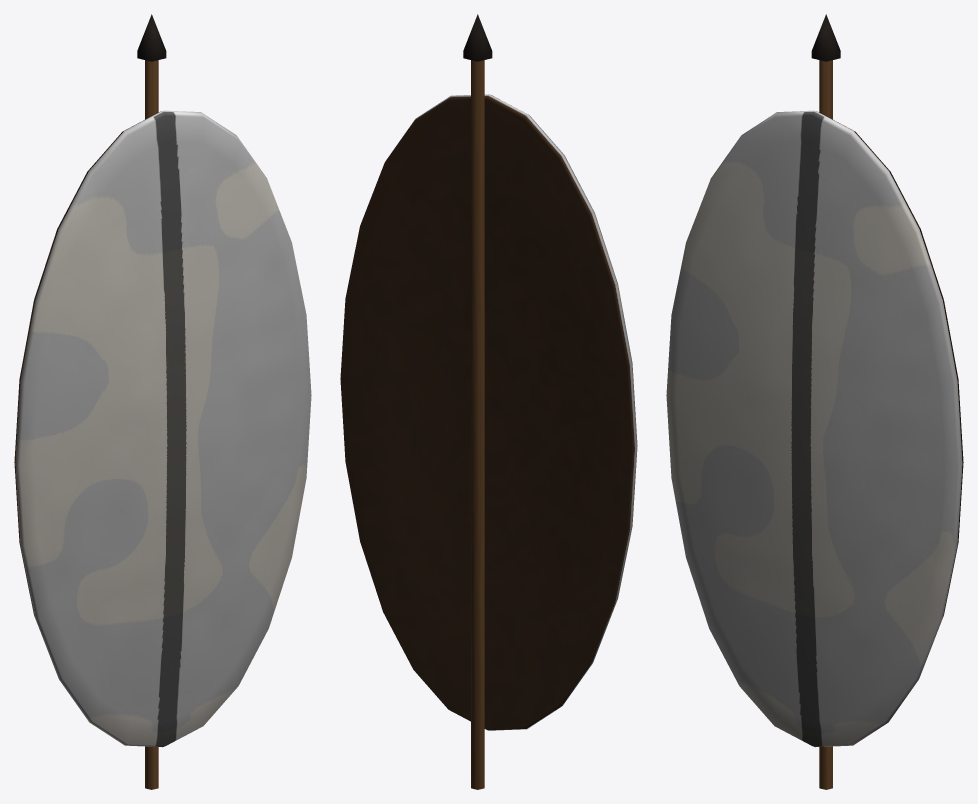
Rendered from bouclier-zoulou.glb.
3 views of the same model, side by side, from view 1: azimuth 30°, elevation 25°; view 2: azimuth 150°, elevation 25°; view 3: azimuth 330°, elevation 25° (orthographic).
Visible parts, largest first — view 1: bouclier-zoulou; view 2: bouclier-zoulou; view 3: bouclier-zoulou.
Boxes of the visible parts, x1=… form: bouclier-zoulou: x1=14, y1=14, x2=311, y2=789; bouclier-zoulou: x1=340, y1=14, x2=637, y2=789; bouclier-zoulou: x1=666, y1=14, x2=963, y2=789.
Bounding box in the file's own units: 0.606 × 1.52 × 0.116.
1 material, 1 textured.
